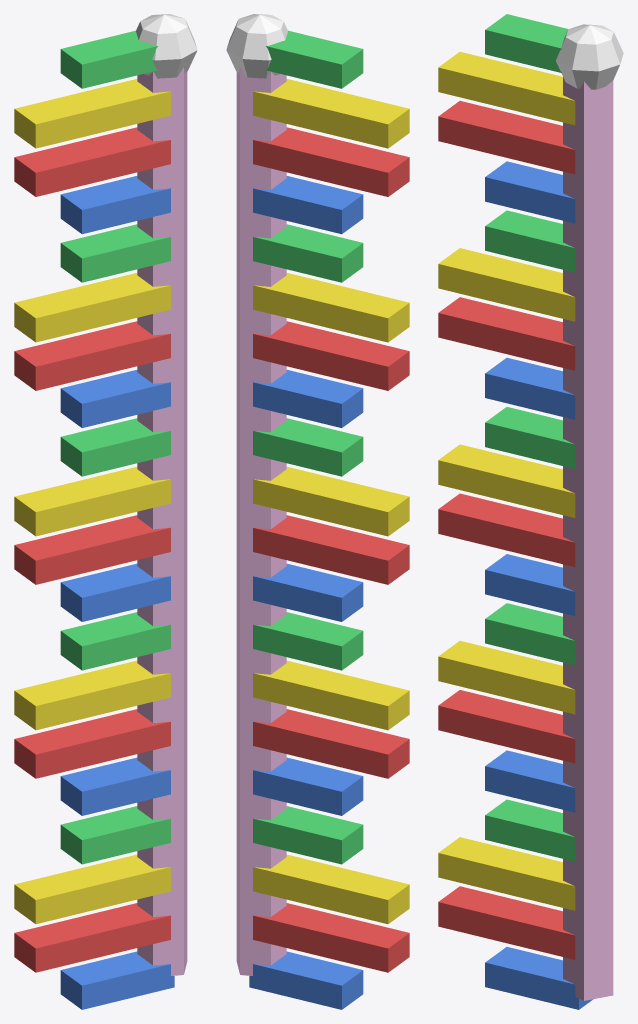
The model's file is Primer_R_Straight.fbx.
The picture shows the model from 3 angles, left to right: view 1: azimuth 30°, elevation 25°; view 2: azimuth 150°, elevation 25°; view 3: azimuth 330°, elevation 25°; orthographic projection.
Visible parts, largest first — view 1: Primer_R_Straight; view 2: Primer_R_Straight; view 3: Primer_R_Straight.
Boxes of the visible parts, <box> form: Primer_R_Straight: <box>14,14,197,1009</box>; Primer_R_Straight: <box>226,14,409,1009</box>; Primer_R_Straight: <box>438,14,623,1009</box>.
Bounding box in the file's own units: 0.0365 × 0.199 × 0.013.
